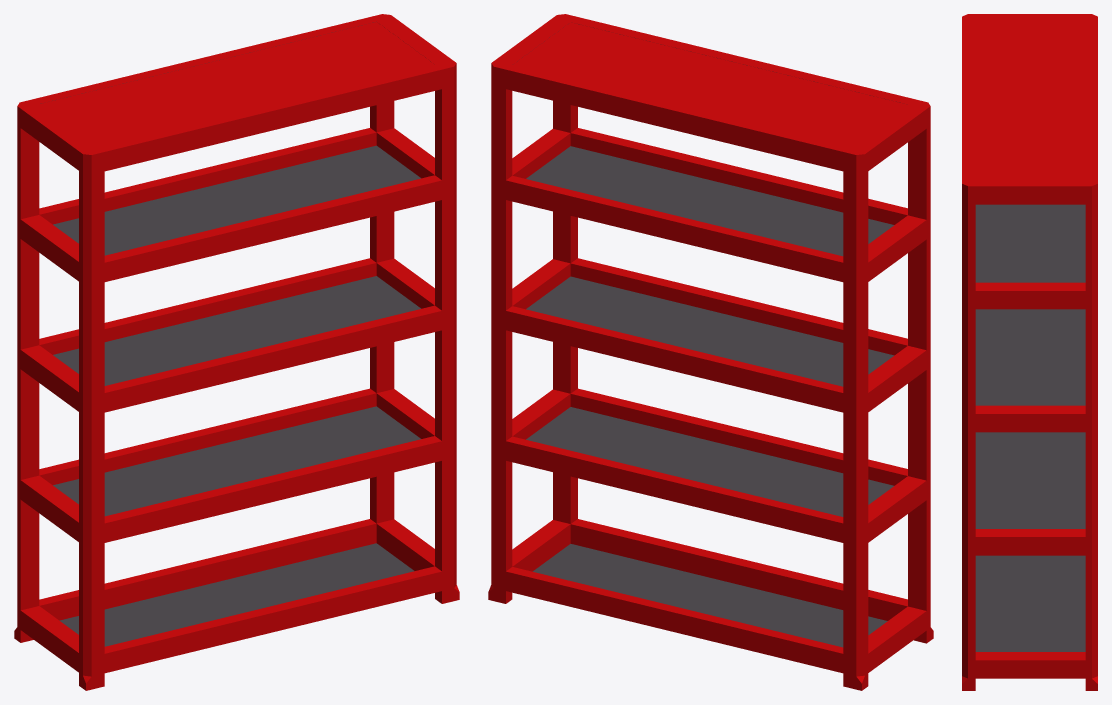
File: StorageShelf.fbx
3 views of the same model, side by side, from view 1: azimuth 30°, elevation 25°; view 2: azimuth 150°, elevation 25°; view 3: azimuth 270°, elevation 25° (orthographic). The views are drawn at different scales.
Visible parts, largest first — view 1: Cube; view 2: Cube; view 3: Cube.
Boxes of the visible parts, left/top/right/bottom form: Cube: left=14, top=14, right=459, bottom=690; Cube: left=488, top=14, right=933, bottom=690; Cube: left=962, top=14, right=1097, bottom=690.
Bounding box in the file's own units: 600 × 820 × 200.
